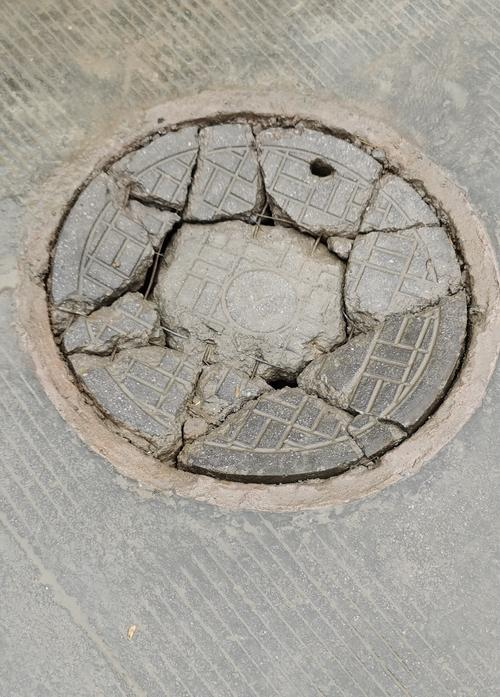broke: (24, 87, 491, 499)
